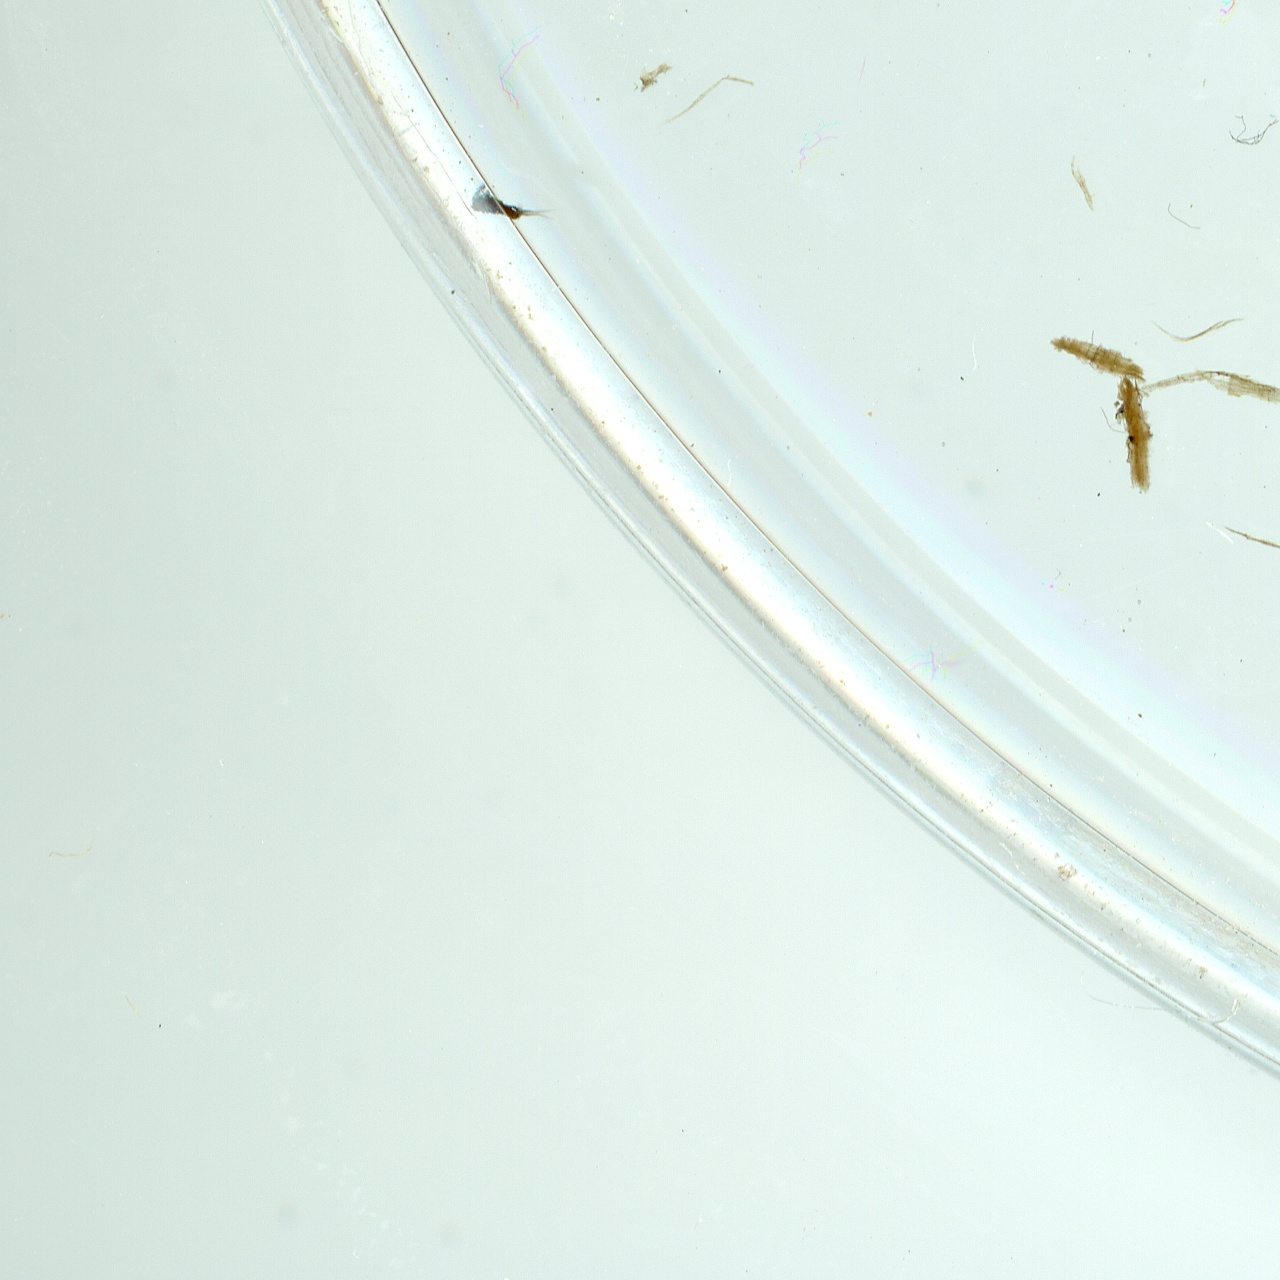arthropod: (465, 178, 564, 229)
